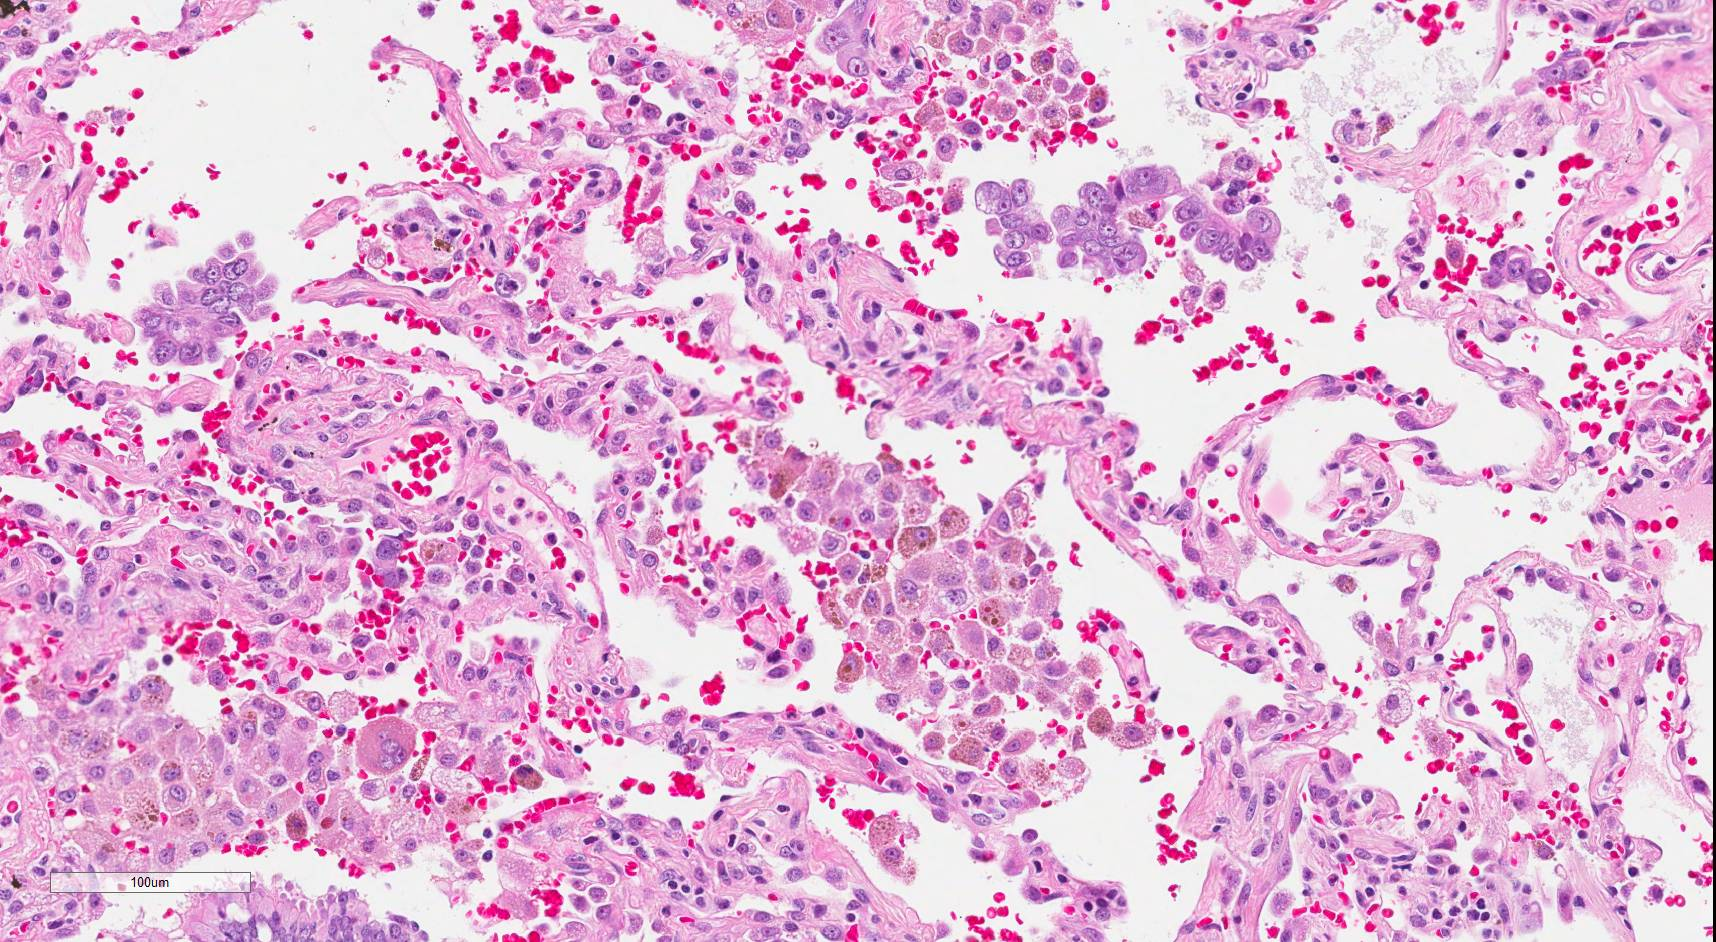stas: (973, 157, 1280, 289), (133, 235, 280, 371), (1483, 238, 1554, 302)
